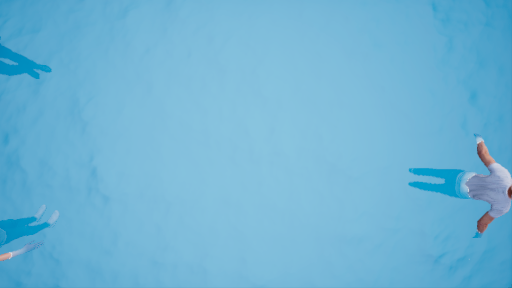person: (406, 135, 512, 234)
